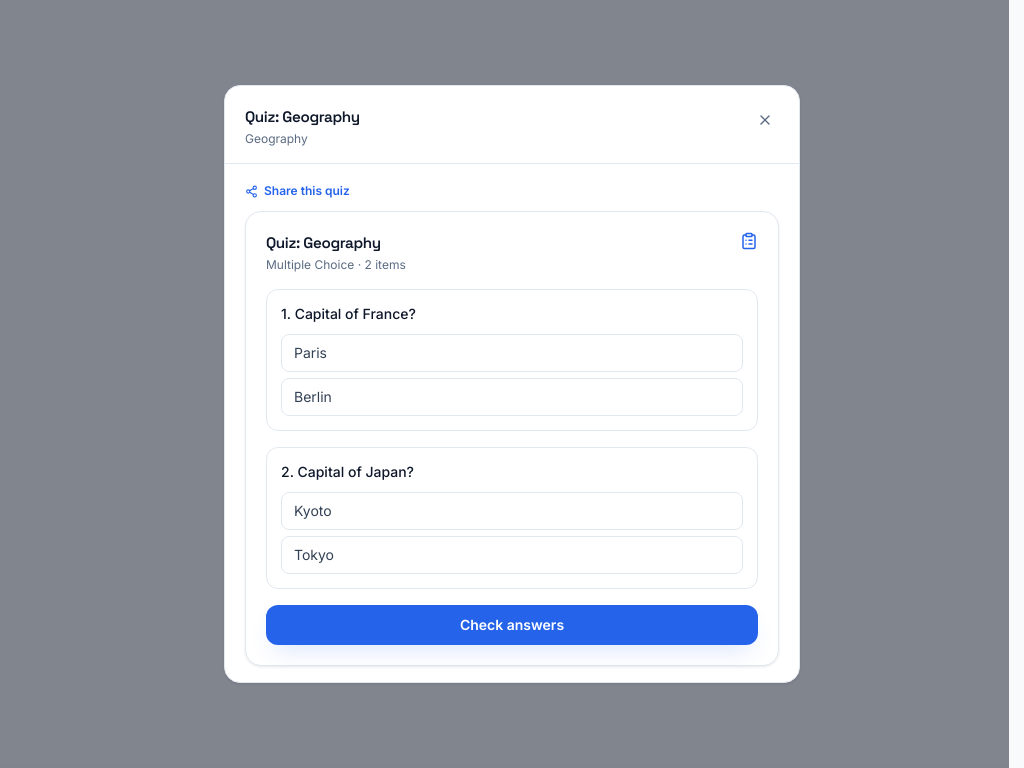
Test: QuizRunner — resumable formal quiz › autosaves an answer to the server when the student picks an option
Expected: the text "1. Capital of France?" is shown, 281,305 -> 416,322
Click the button "Paris".
click(310, 353)  # box 281,334 -> 743,372
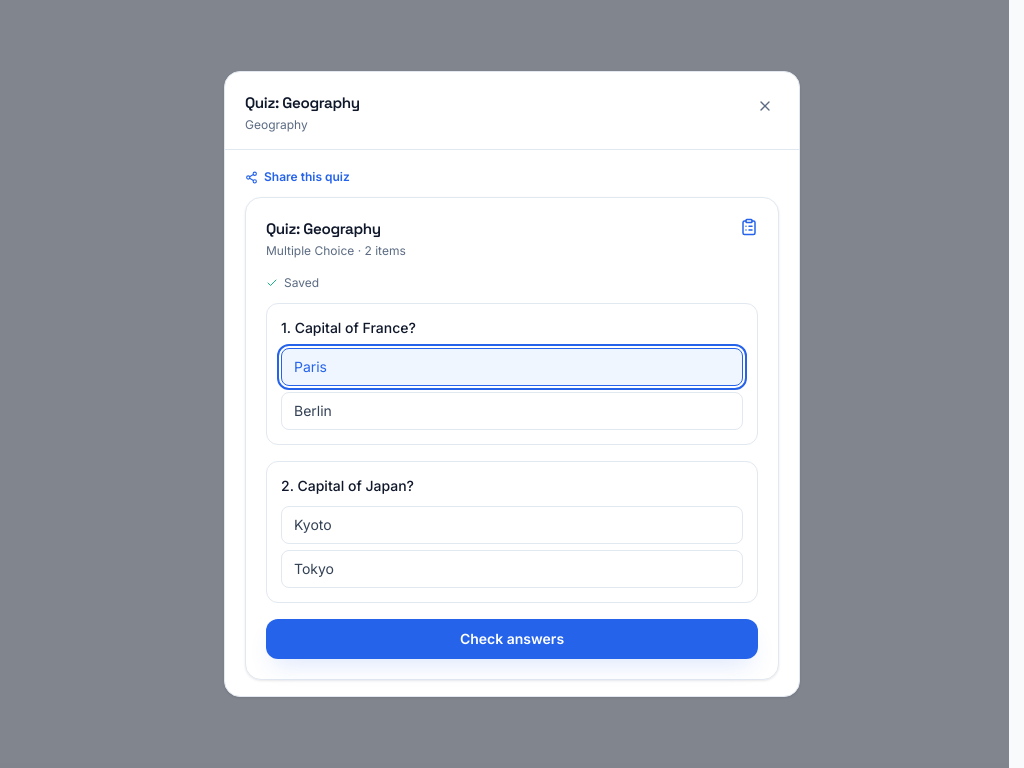
Now the text "Saved" is shown, box 284,275 -> 319,291
